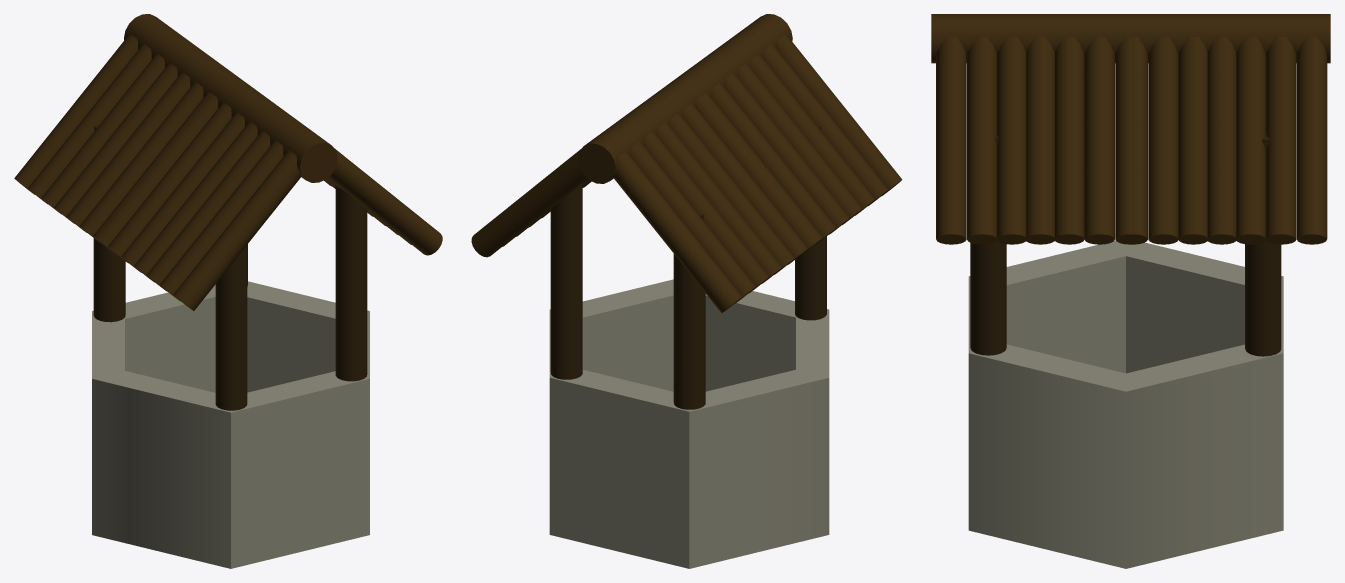
The model's file is studnia2.fbx.
The picture shows the model from 3 angles, left to right: view 1: azimuth 30°, elevation 25°; view 2: azimuth 150°, elevation 25°; view 3: azimuth 270°, elevation 25°; orthographic projection. The views are drawn at different scales.
Visible parts, largest first — view 1: Ekstrudowanie, Obiekt_zerowy, Walec, Walec_3, Walec_1; view 2: Ekstrudowanie, Obiekt_zerowy, Walec_2, Walec_1, Walec_3; view 3: Obiekt_zerowy, Ekstrudowanie, Walec_2, Walec.
Part boxes in pixels (left/top/right/bottom): Ekstrudowanie: left=92, top=281, right=369, bottom=568; Obiekt_zerowy: left=14, top=14, right=442, bottom=310; Walec: left=335, top=185, right=367, bottom=381; Walec_3: left=215, top=212, right=247, bottom=410; Walec_1: left=93, top=125, right=125, bottom=322; Ekstrudowanie: left=549, top=279, right=829, bottom=568; Obiekt_zerowy: left=471, top=14, right=902, bottom=313; Walec_2: left=550, top=183, right=582, bottom=379; Walec_1: left=673, top=213, right=705, bottom=409; Walec_3: left=795, top=126, right=826, bottom=320; Obiekt_zerowy: left=931, top=14, right=1330, bottom=244; Ekstrudowanie: left=968, top=240, right=1283, bottom=568; Walec_2: left=1245, top=134, right=1281, bottom=356; Walec: left=970, top=134, right=1006, bottom=355.
Bounding box in the file's own units: 400 × 578 × 439.
